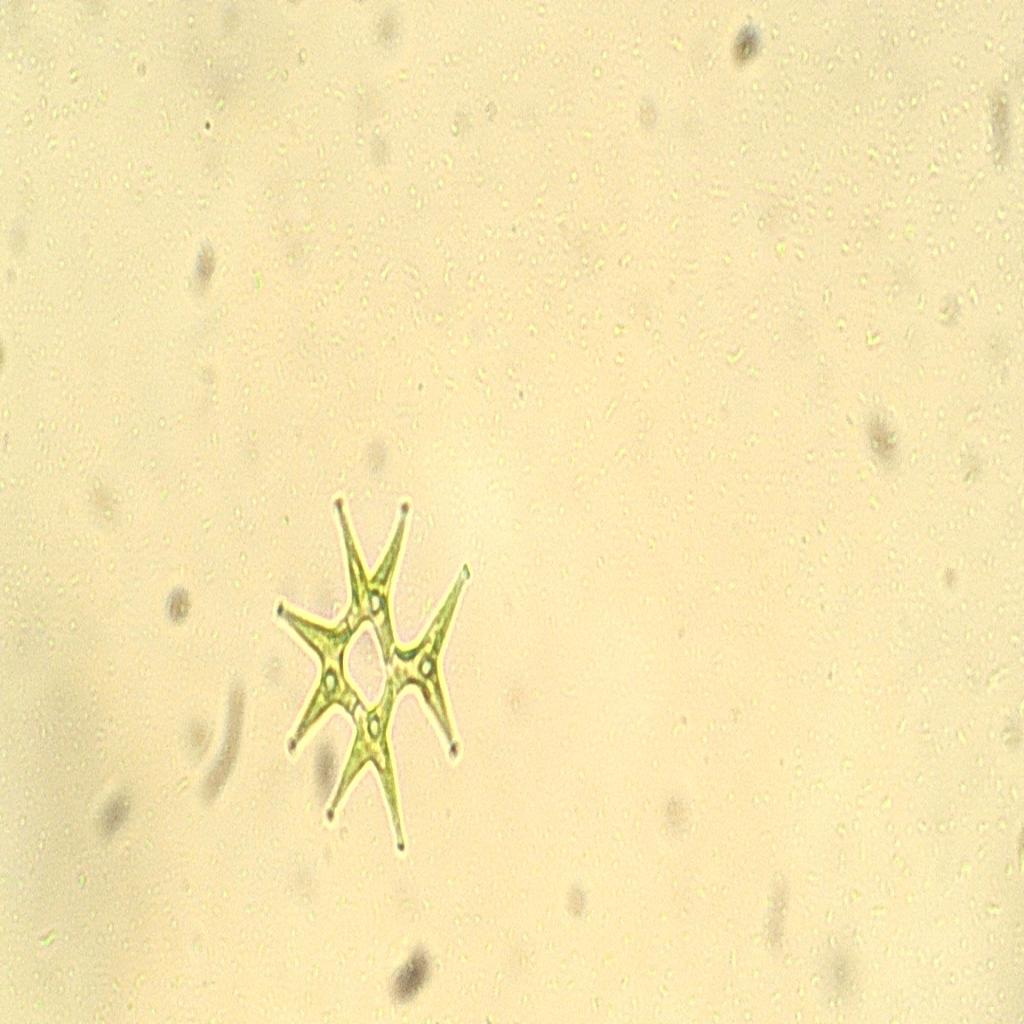Pediastrum_75FI: (248, 473, 490, 866)
